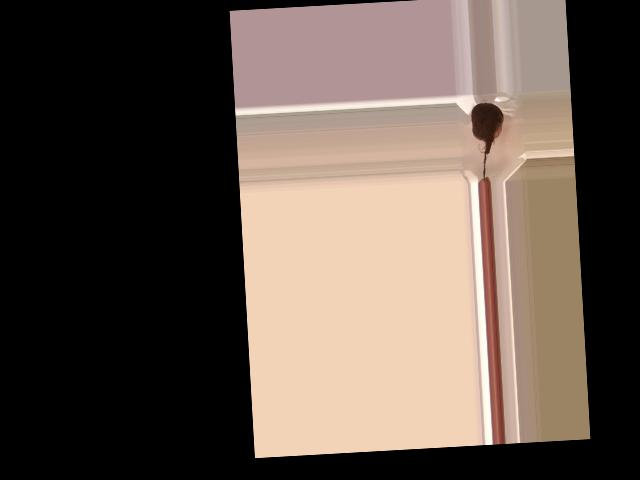beet: (471, 102, 507, 180)
